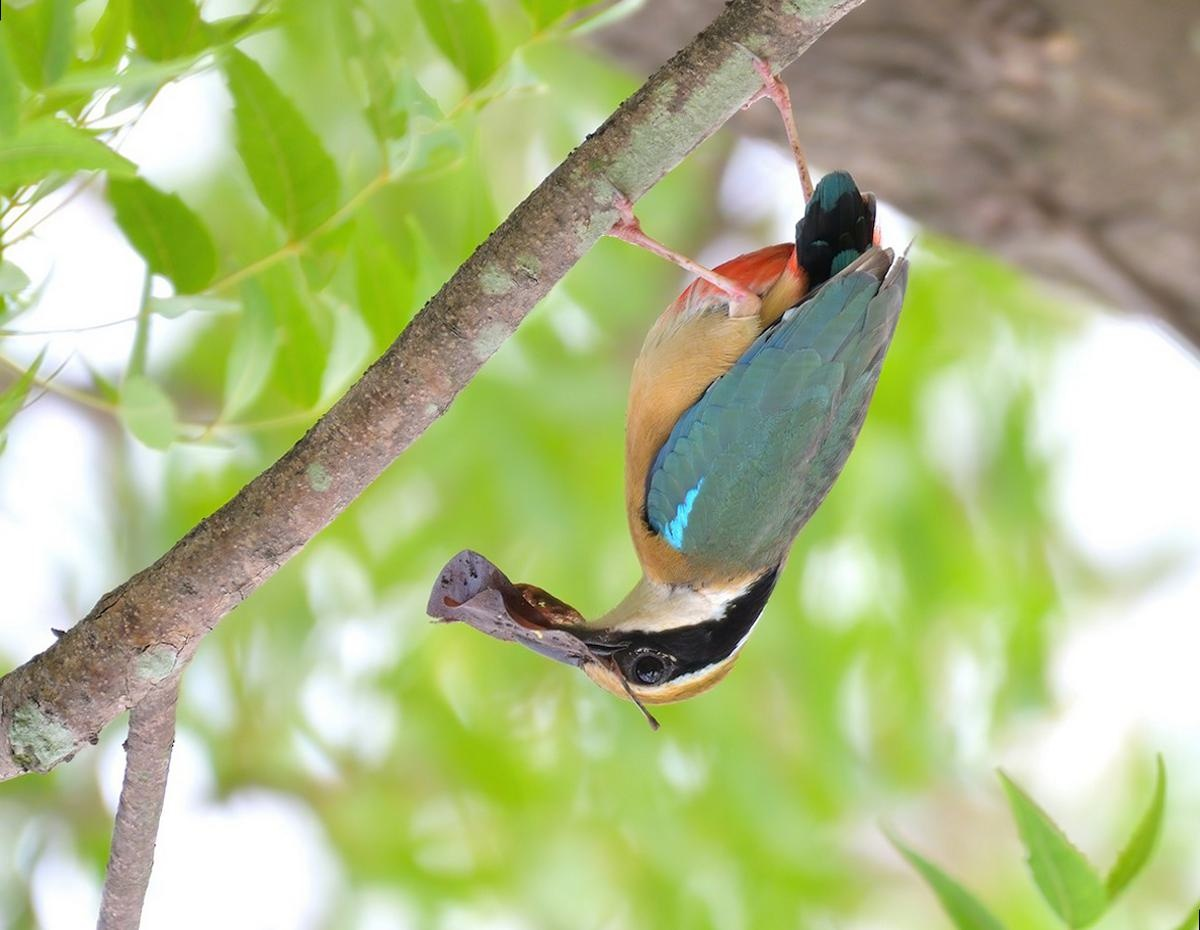pitta: (434, 31, 926, 745)
